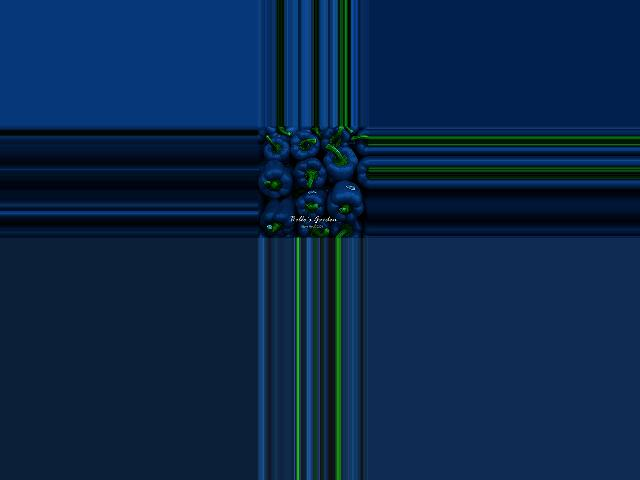bell_pepper: (328, 215, 366, 238)
